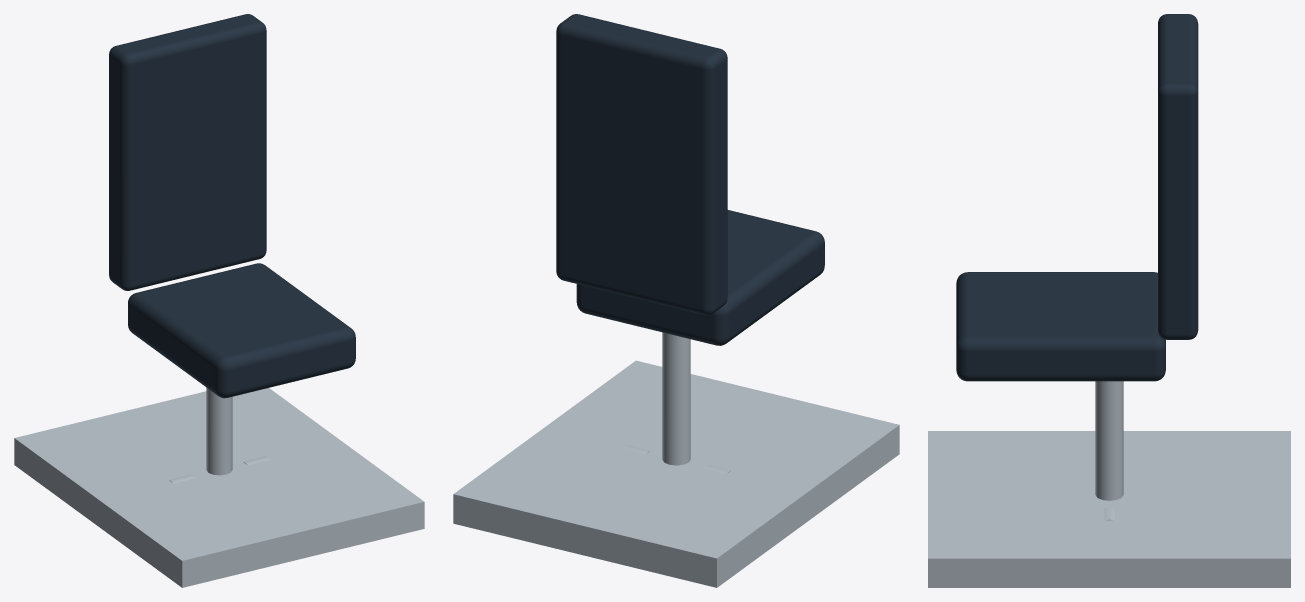
The model's file is dumbbell_seated.glb.
The picture shows the model from 3 angles, left to right: view 1: azimuth 30°, elevation 25°; view 2: azimuth 150°, elevation 25°; view 3: azimuth 270°, elevation 25°; orthographic projection. The views are drawn at different scales.
Visible parts, largest first — view 1: base, back, seat, post; view 2: base, back, seat, post; view 3: base, seat, back, post.
Part boxes in pixels (x1=…): base: x1=14, y1=388, x2=424, y2=587; back: x1=109, y1=14, x2=266, y2=290; seat: x1=128, y1=263, x2=355, y2=398; post: x1=206, y1=387, x2=232, y2=475; base: x1=453, y1=360, x2=899, y2=587; back: x1=556, y1=14, x2=727, y2=315; seat: x1=576, y1=210, x2=824, y2=345; post: x1=662, y1=332, x2=690, y2=465; base: x1=928, y1=431, x2=1290, y2=587; seat: x1=956, y1=272, x2=1165, y2=381; back: x1=1158, y1=14, x2=1198, y2=339; post: x1=1095, y1=381, x2=1123, y2=500.
Size of the model in its own units: 0.75 by 1.38 by 0.9.
